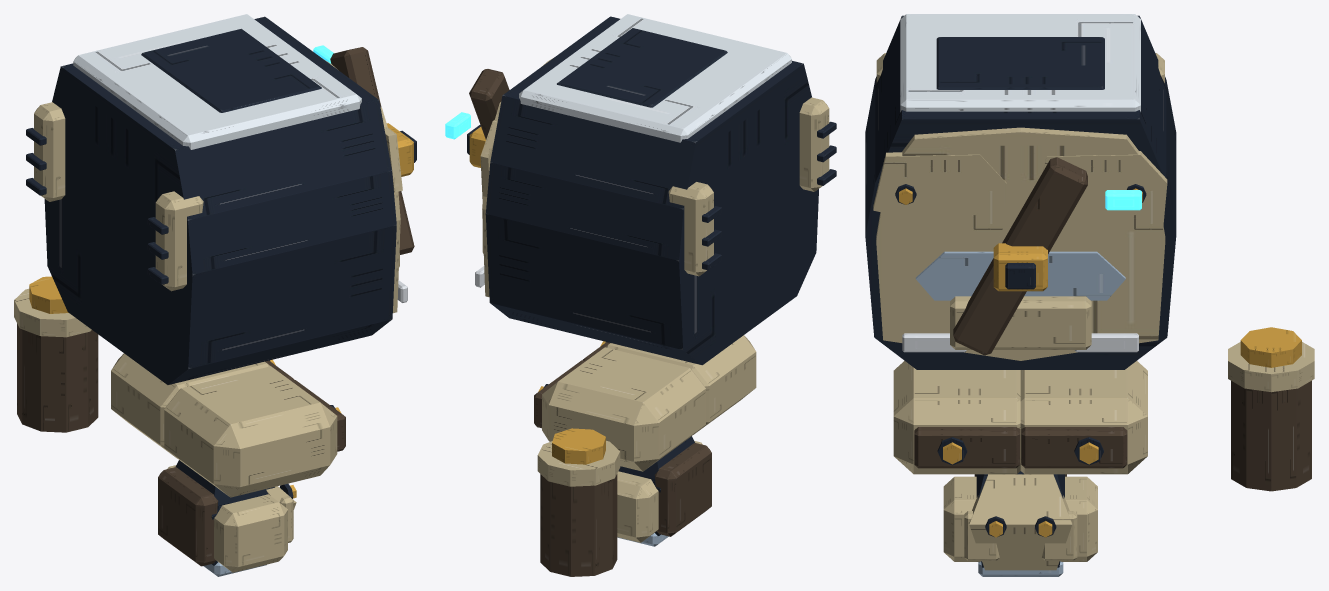
The model's file is scout.glb.
3 renders of one model, left to right at view 1: azimuth 30°, elevation 25°; view 2: azimuth 150°, elevation 25°; view 3: azimuth 270°, elevation 25°, orthographic. The views are drawn at different scales.
Visible parts, largest first — view 1: chest, arm_R, hips, forearm_L, arm_L; view 2: chest, arm_L, hips, forearm_L, arm_R; view 3: chest, arm_R, arm_L, hips, forearm_L.
Boxes of the visible parts, x1,y1,x2,y2 form: chest: (26,14,416,384); arm_R: (164,366,345,572); hips: (14,276,98,432); forearm_L: (158,460,296,576); arm_L: (111,353,294,468); chest: (445,14,836,365); arm_L: (534,347,705,542); hips: (537,428,620,576); forearm_L: (617,436,711,546); arm_R: (582,335,756,444); chest: (865,14,1176,369); arm_R: (893,360,1020,561); arm_L: (1020,361,1147,561); hips: (1228,327,1314,491); forearm_L: (969,471,1072,576).
Bounding box in the file's own units: 0.385 × 0.564 × 0.4537.
Materials: 8 (8 with a texture image).
